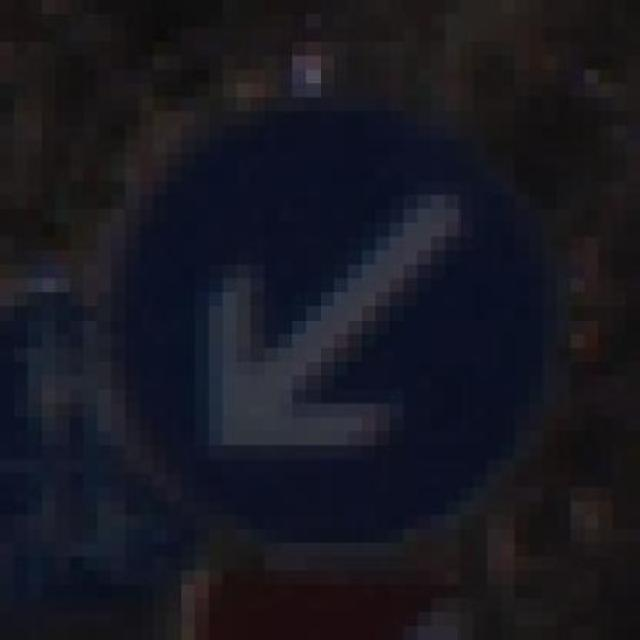Keep-Left: (124, 83, 570, 571)
